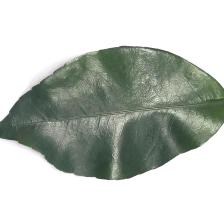healthy: (10, 50, 212, 160)
